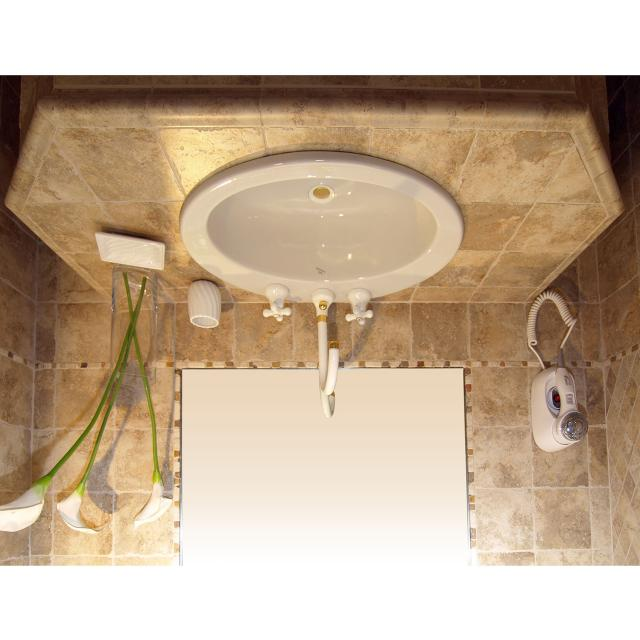dryer: (511, 277, 592, 466)
